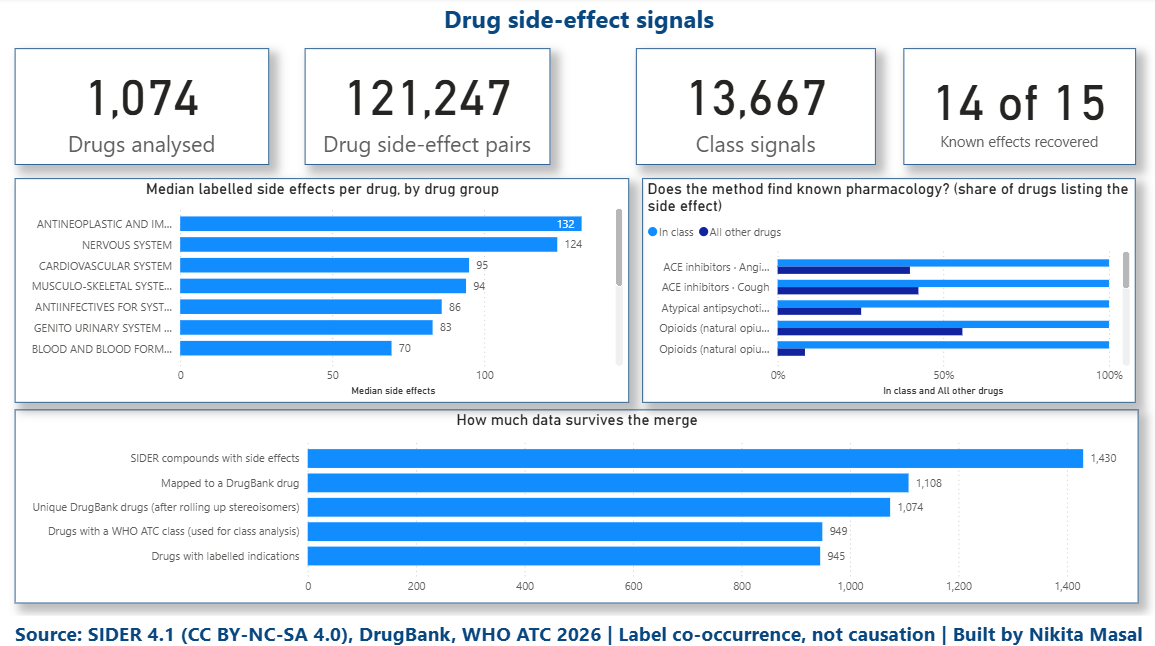

The dashboard page shown, as its layout file describes it:
{"tool":"powerbi","page":{"name":"Overview","canvas":[1280,720],"ordinal":0},"visuals":[{"type":"card","fields":{"Values":["Measures (2).Drugs analysed"]},"box":[20.4,56.4,279.1,128.4],"z":0},{"type":"card","fields":{"Values":["Measures (2).Class signals"]},"box":[702.2,56.4,263.6,128.4],"z":1000},{"type":"card","fields":{"Values":["Measures (2).Drug side-effect pairs"]},"box":[339.5,56.4,269.4,128.4],"z":2000},{"type":"card","fields":{"Values":["Measures (2).Known effects recovered"]},"box":[996,56.4,254.8,128.4],"z":3000},{"type":"clusteredBarChart","title":"How much data survives the merge","fields":{"Category":["an_q01_data_funnel.stage"],"Y":["Sum(an_q01_data_funnel.n)"]},"box":[20.4,452.3,1233.3,213],"z":4000},{"type":"clusteredBarChart","title":"Does the method find known pharmacology? (share of drugs listing the side effect)","fields":{"Category":["an_known_effect_check.Effect"],"Y":["Sum(an_known_effect_check.pct_in_class)","Sum(an_known_effect_check.pct_outside_class)"]},"box":[709.1,198.4,541.8,246.1],"z":5000},{"type":"clusteredBarChart","title":"Median labelled side effects per drug, by drug group","fields":{"Category":["an_q03_burden_by_class.l1_name"],"Y":["Sum(an_q03_burden_by_class.median_side_effects)"]},"box":[20.4,198.4,674,246.1],"z":6000},{"type":"textbox","box":[0,0,1280,49.6],"z":7000},{"type":"textbox","box":[0,678.9,1280,40.9],"z":8000}]}

Visuals, with their boxes in screenshot pixels (x1, y1, x2, y2), scaled from the page's 1280x720 canvas onto the 1155x646 screenshot:
card - Measures (2).Drugs analysed: Rect(18, 51, 270, 166)
card - Measures (2).Class signals: Rect(634, 51, 871, 166)
card - Measures (2).Drug side-effect pairs: Rect(306, 51, 549, 166)
card - Measures (2).Known effects recovered: Rect(899, 51, 1129, 166)
"How much data survives the merge" clusteredBarChart: Rect(18, 406, 1131, 597)
"Does the method find known pharmacology? (share of drugs listing the side effect)" clusteredBarChart: Rect(640, 178, 1129, 399)
"Median labelled side effects per drug, by drug group" clusteredBarChart: Rect(18, 178, 627, 399)
textbox: Rect(0, 0, 1154, 45)
textbox: Rect(0, 609, 1154, 645)
